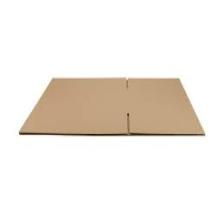cardboard: (30, 49, 201, 175)
